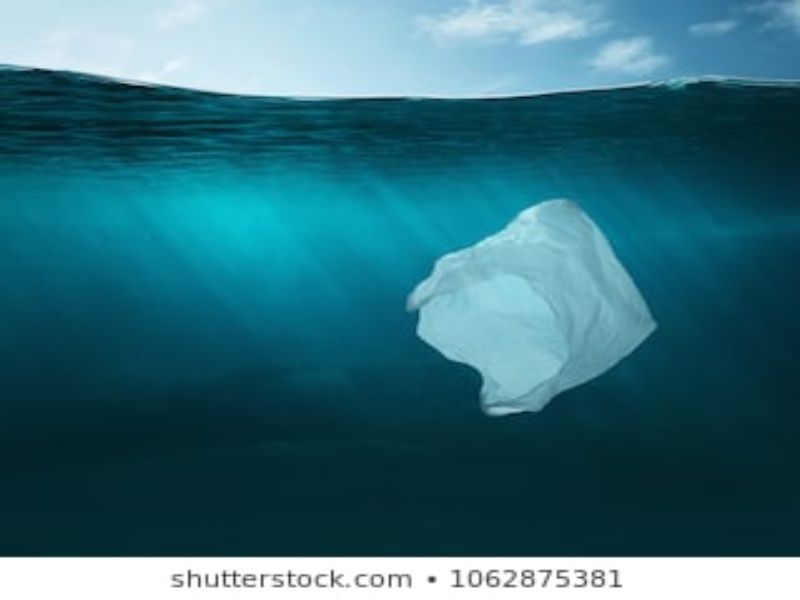plastic-bag: (399, 195, 660, 418)
